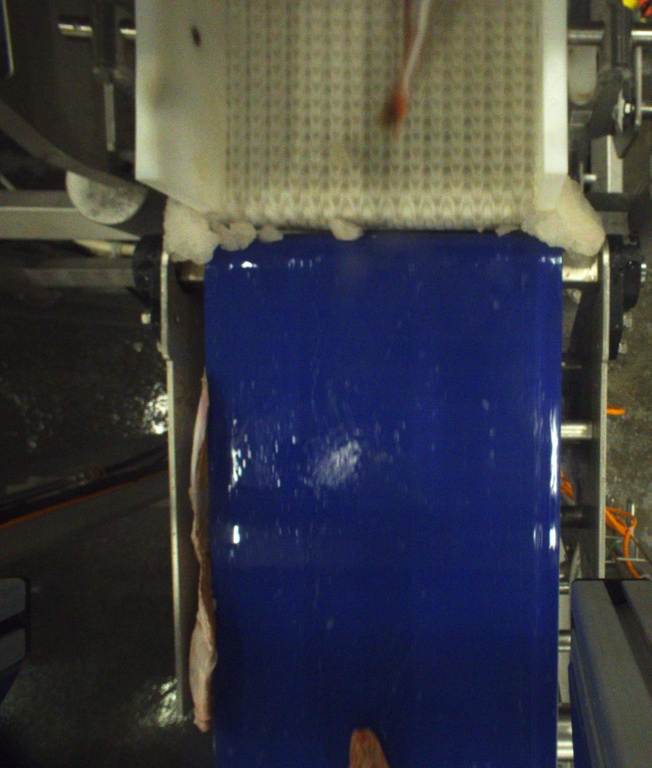GUU: (384, 1, 424, 129)
